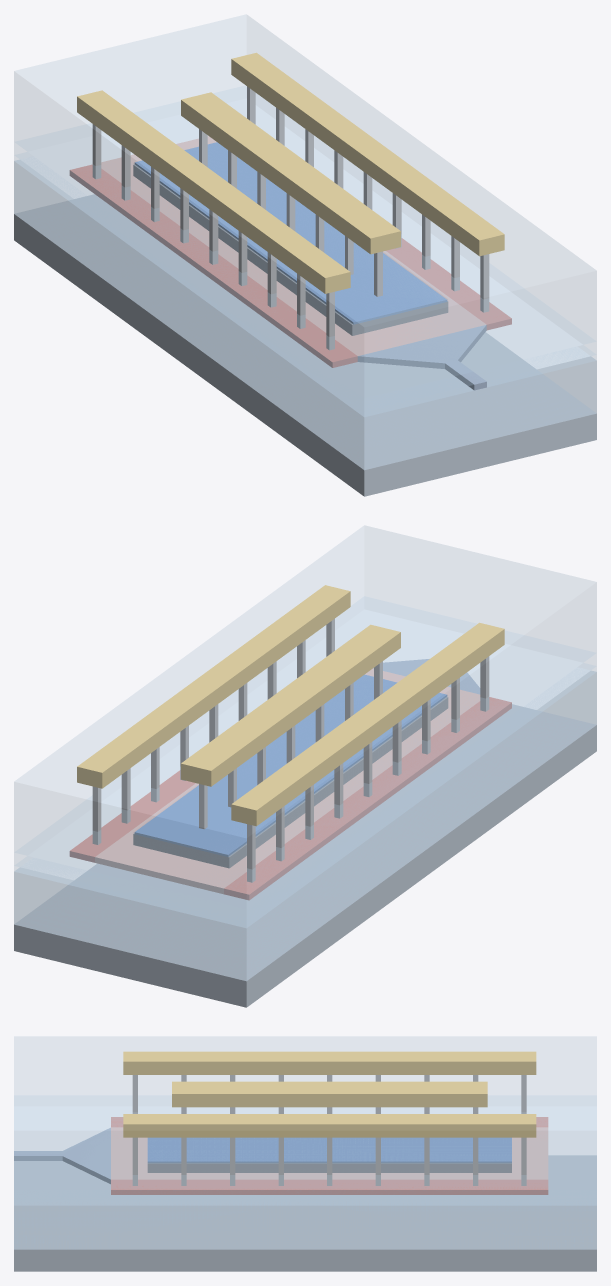
File: stack-ge.glb
3 views of the same model, one above another, from view 1: azimuth 30°, elevation 25°; view 2: azimuth 150°, elevation 25°; view 3: azimuth 270°, elevation 25° (orthographic). The views are drawn at different scales.
Visible parts, largest first — view 1: cladx, sisub, box, metal1, wplug, pp, nge, pdop, si, gei; view 2: cladx, sisub, box, metal1, wplug, pp, nge, pdop, gei, si; view 3: cladx, sisub, box, metal1, nge, pp, pdop, wplug, gei, si.
Boxes of the visible parts, x1=… form: cladx: x1=14, y1=14, x2=596, y2=416; sisub: x1=14, y1=194, x2=596, y2=496; box: x1=14, y1=157, x2=596, y2=469; metal1: x1=77, y1=52, x2=504, y2=293; wplug: x1=92, y1=86, x2=489, y2=350; pp: x1=69, y1=164, x2=511, y2=367; nge: x1=134, y1=142, x2=447, y2=324; pdop: x1=101, y1=136, x2=485, y2=355; si: x1=357, y1=325, x2=486, y2=390; gei: x1=133, y1=164, x2=448, y2=335; cladx: x1=14, y1=525, x2=596, y2=927; sisub: x1=14, y1=704, x2=596, y2=1007; box: x1=14, y1=669, x2=596, y2=980; metal1: x1=77, y1=585, x2=504, y2=826; wplug: x1=92, y1=618, x2=489, y2=882; pp: x1=69, y1=697, x2=511, y2=900; nge: x1=134, y1=674, x2=447, y2=856; pdop: x1=95, y1=668, x2=480, y2=894; gei: x1=133, y1=697, x2=448, y2=868; si: x1=373, y1=659, x2=480, y2=694; cladx: x1=14, y1=1036, x2=596, y2=1205; sisub: x1=14, y1=1155, x2=596, y2=1271; box: x1=14, y1=1190, x2=596, y2=1249; metal1: x1=123, y1=1051, x2=536, y2=1137; nge: x1=147, y1=1137, x2=511, y2=1163; pp: x1=111, y1=1117, x2=548, y2=1194; pdop: x1=111, y1=1127, x2=548, y2=1179; wplug: x1=132, y1=1075, x2=526, y2=1185; gei: x1=147, y1=1163, x2=511, y2=1172; si: x1=14, y1=1128, x2=110, y2=1183.
Bounding box in the file's own units: 9.2 × 6.4 × 24.
